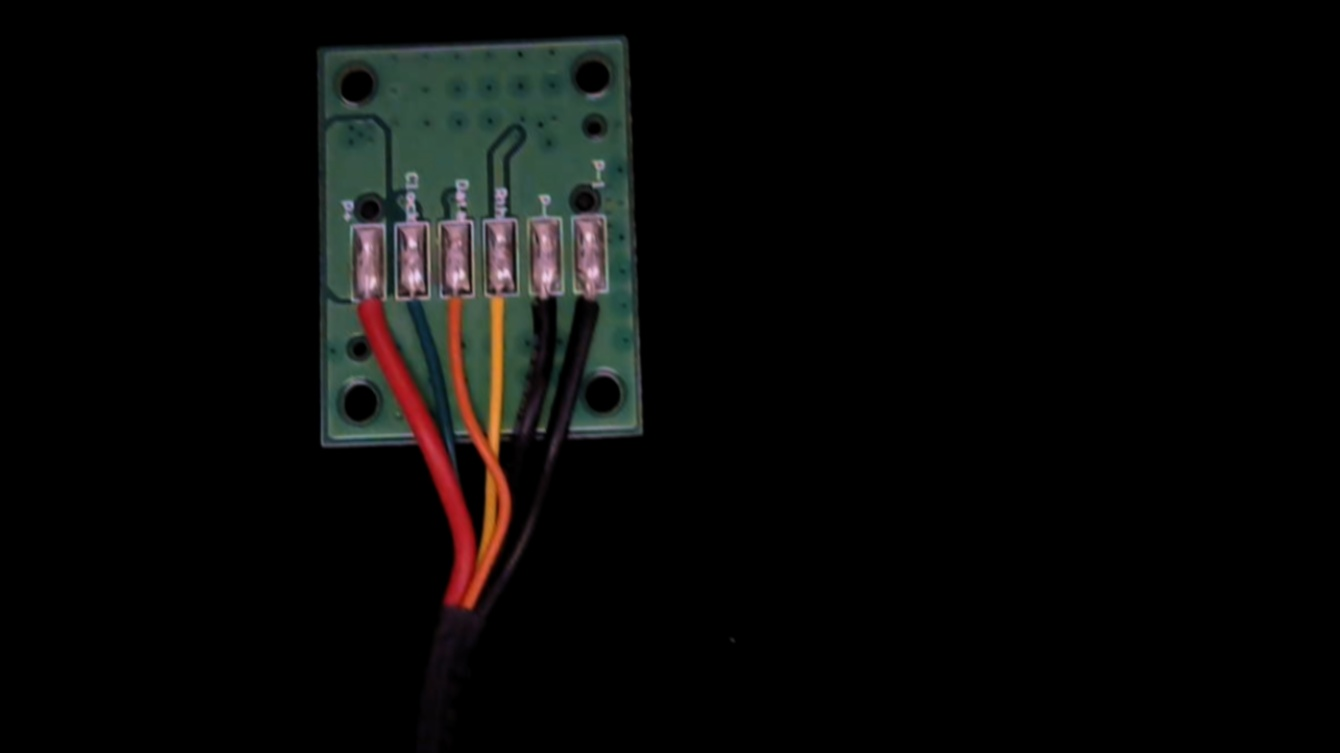Black: (523, 276, 564, 366)
Black1: (571, 274, 610, 356)
Green: (395, 276, 431, 350)
Orange: (437, 275, 474, 363)
Red: (350, 276, 389, 356)
Yellow: (481, 276, 520, 366)
